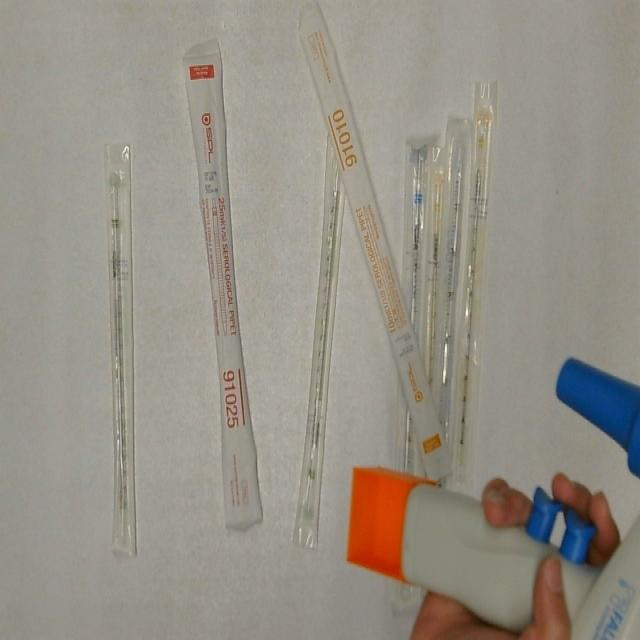Pipette Controller: (345, 354, 640, 639)
Serelogical Pipet 1 mL: (451, 77, 502, 487), (420, 142, 451, 398)
Serelogical Pipet 10 mL: (296, 0, 453, 484)
Serelogical Pipet 2 mL: (288, 116, 353, 549), (99, 135, 140, 564)
Serelogical Pipet 25 mL: (180, 35, 268, 532)
Serelogical Pipet 5 mL: (435, 116, 473, 432), (398, 123, 442, 344)
